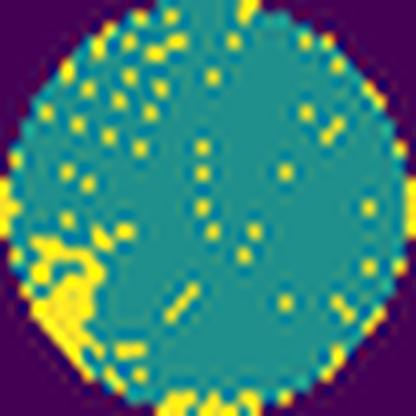Edge-Loc: (23, 235, 119, 380)
